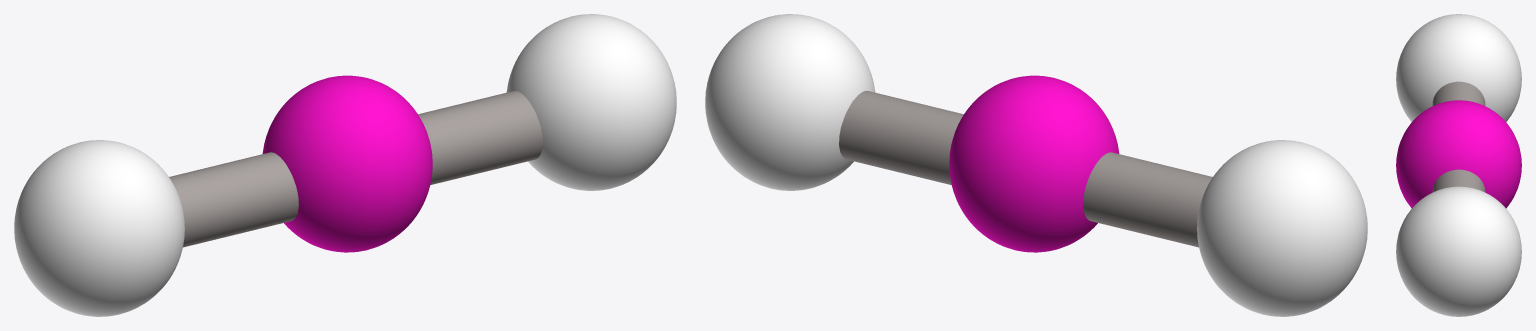
The model's file is linearbond.fbx.
3 views of the same model, side by side, from view 1: azimuth 30°, elevation 25°; view 2: azimuth 150°, elevation 25°; view 3: azimuth 270°, elevation 25° (orthographic). The views are drawn at different scales.
Visible parts, largest first — view 1: root (×5); view 2: root (×5); view 3: root (×5).
Part boxes in pixels (left/top/right/bottom): root (×5): left=14, top=14, right=676, bottom=316; root (×5): left=705, top=14, right=1367, bottom=316; root (×5): left=1396, top=14, right=1521, bottom=316.
Size of the model in its own units: 0.6641 by 0.1663 by 0.1536.
5 materials, 5 textured.
